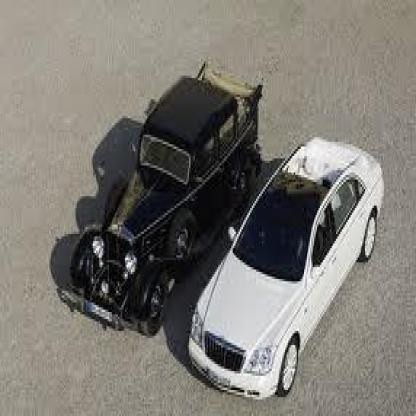Vehicle: (182, 137, 390, 407)
